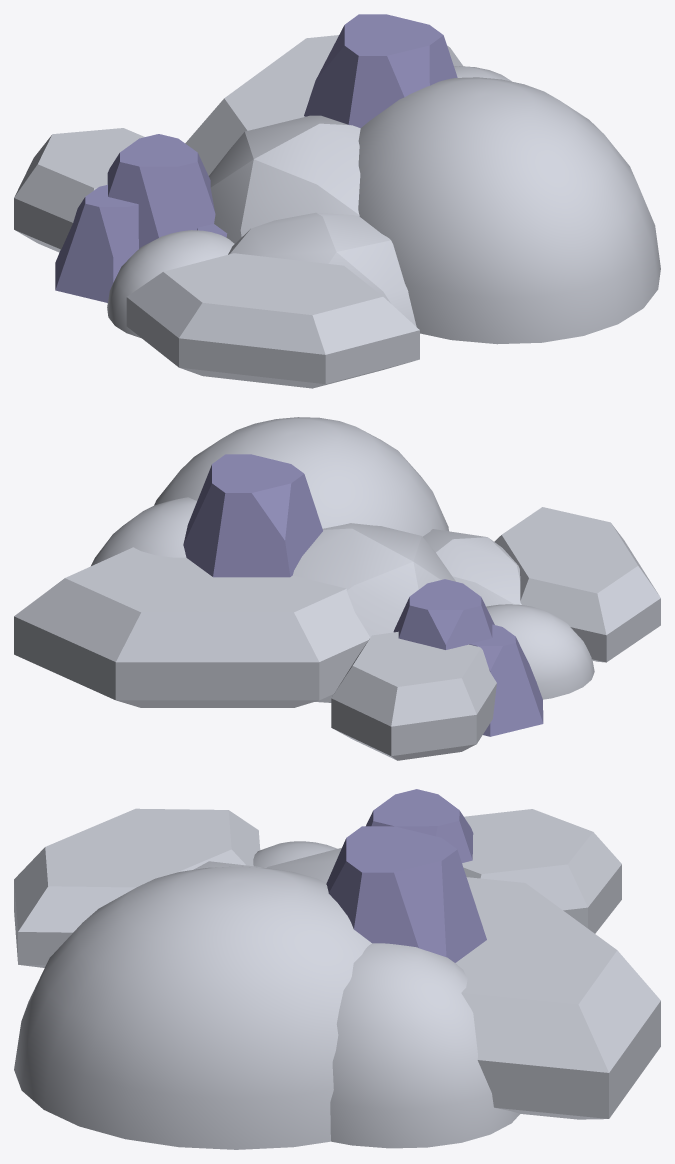
Rendered from Snow.fbx.
3 views of the same model, one above another, from view 1: azimuth 30°, elevation 25°; view 2: azimuth 150°, elevation 25°; view 3: azimuth 270°, elevation 25° (orthographic). The views are drawn at different scales.
Parts seen in each view (by area): view 1: mergedBlocks; view 2: mergedBlocks; view 3: mergedBlocks.
Boxes of the visible parts, x1=… form: mergedBlocks: x1=14, y1=14, x2=660, y2=388; mergedBlocks: x1=14, y1=417, x2=660, y2=760; mergedBlocks: x1=14, y1=789, x2=660, y2=1149.
Size of the model in its own units: 28.39 by 10 by 28.53.
